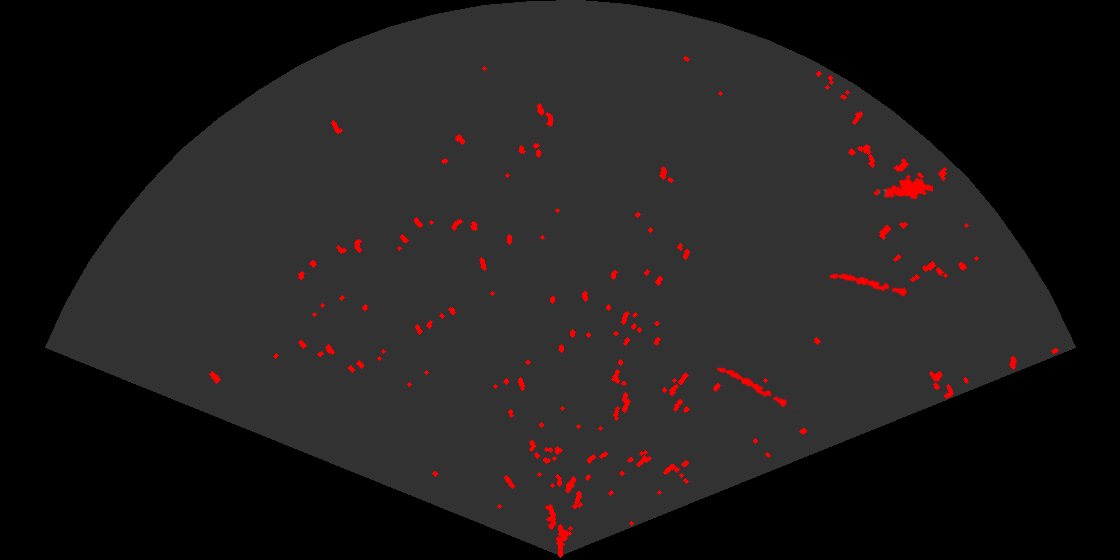chain: (715, 366, 796, 412), (827, 271, 912, 298)
frogman: (871, 173, 933, 201)
